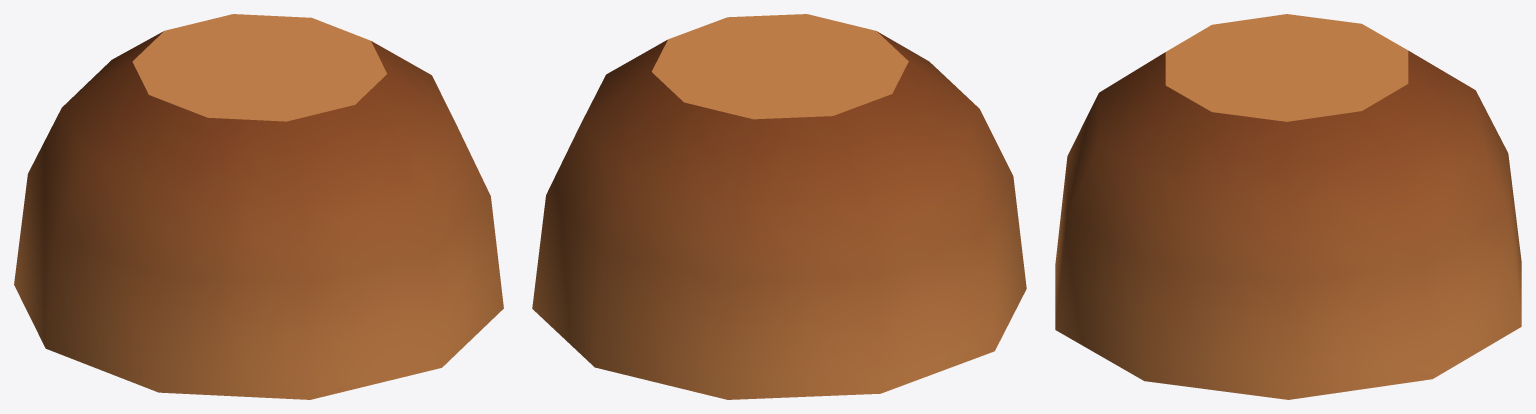
Rendered from BowlDipHand.fbx.
3 renders of one model, left to right at view 1: azimuth 30°, elevation 25°; view 2: azimuth 150°, elevation 25°; view 3: azimuth 270°, elevation 25°, orthographic.
Visible parts, largest first — view 1: BowlDip; view 2: BowlDip; view 3: BowlDip.
Part boxes in pixels (x1,y1,x2,y2): BowlDip: (14, 14, 503, 399); BowlDip: (532, 14, 1026, 399); BowlDip: (1055, 14, 1521, 399).
Size of the model in its own units: 27.48 by 14.58 by 26.13.
